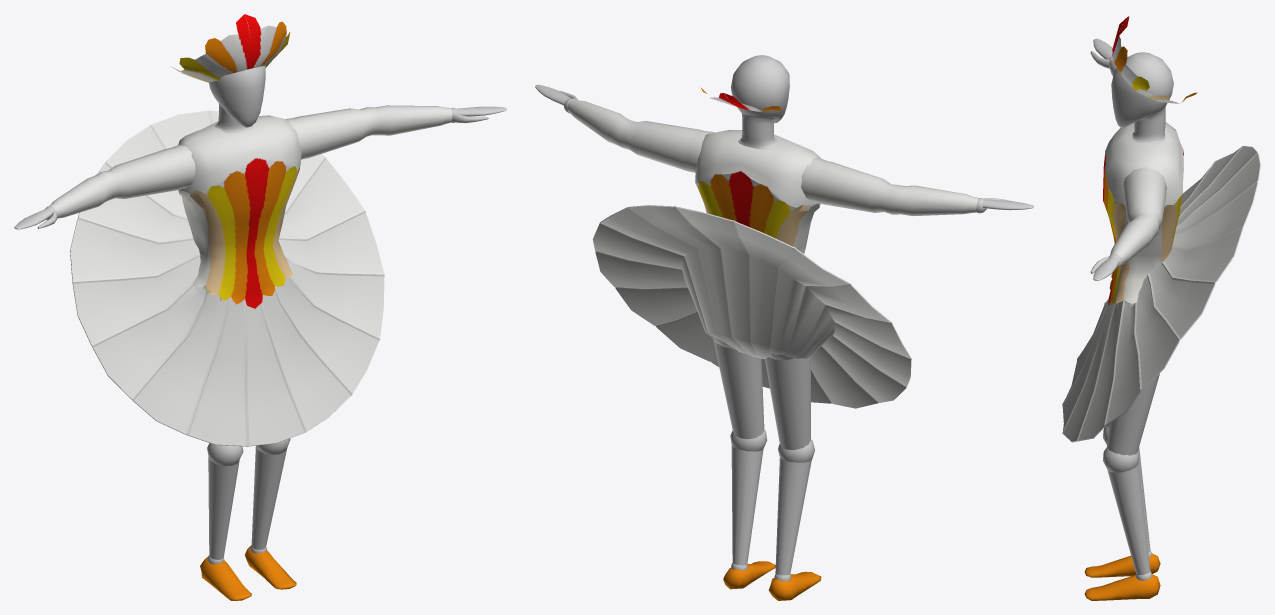
The model's file is Custom003_02.gltf.
The picture shows the model from 3 angles, left to right: view 1: azimuth 30°, elevation 25°; view 2: azimuth 150°, elevation 25°; view 3: azimuth 270°, elevation 25°; orthographic projection.
Visible parts, largest first — view 1: Custom003_1Skirt, Custom003_1Shirt, Custom003_1Corset, Body03, Custom003_1Crown, Custom003_1Shoes; view 2: Custom003_1Skirt, Body03, Custom003_1Shirt, Custom003_1Corset, Custom003_1Shoes; view 3: Custom003_1Skirt, Body03, Custom003_1Shirt, Custom003_1Corset, Custom003_1Shoes, Custom003_1Crown.
Part boxes in pixels (x1,y1,x2,y2): Custom003_1Skirt: (70,110,384,446); Custom003_1Shirt: (49,105,452,218); Custom003_1Corset: (177,158,300,308); Body03: (14,65,506,564); Custom003_1Crown: (171,14,290,82); Custom003_1Shoes: (200,545,296,600); Custom003_1Skirt: (592,205,911,408); Body03: (535,55,1033,581); Custom003_1Shirt: (567,99,978,215); Custom003_1Corset: (695,171,819,253); Custom003_1Shoes: (723,561,821,600); Custom003_1Skirt: (1062,146,1260,442); Body03: (1090,38,1173,580); Custom003_1Shirt: (1104,58,1183,264); Custom003_1Corset: (1103,152,1183,304); Custom003_1Shoes: (1084,553,1160,600); Custom003_1Crown: (1112,16,1197,103).
Size of the model in its own units: 4.34 by 4.77 by 1.51.
Materials: 1 (1 with a texture image).
